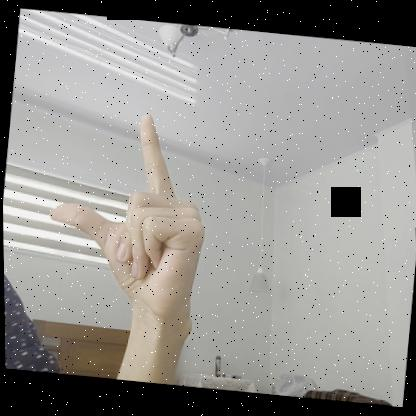L: (37, 101, 217, 314)
